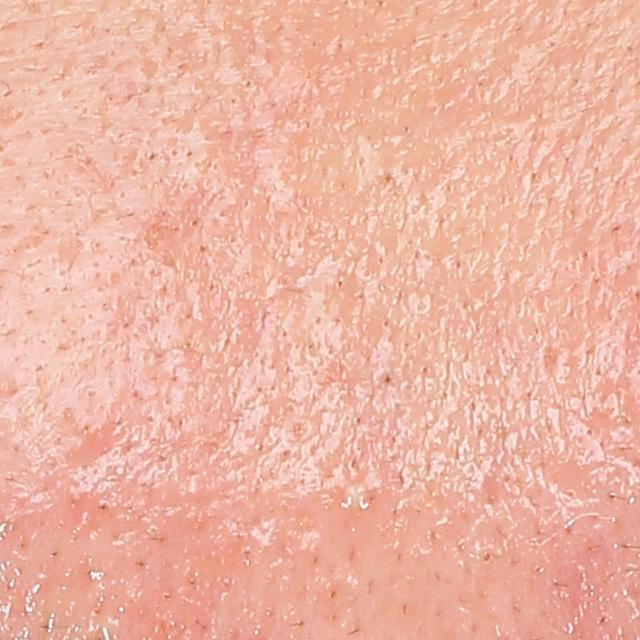pustule: (340, 479, 378, 520)
